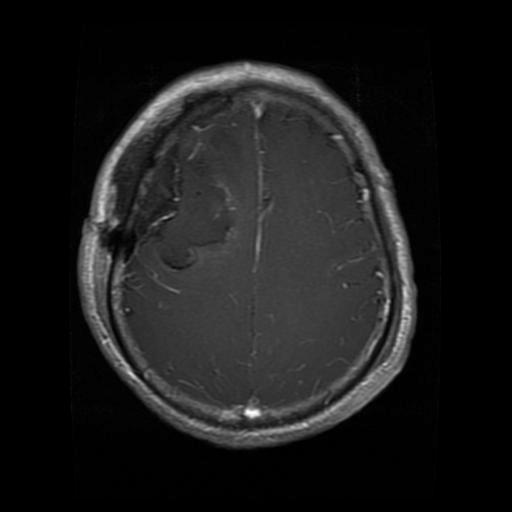Tumour-Glioma: (140, 153, 249, 283)
